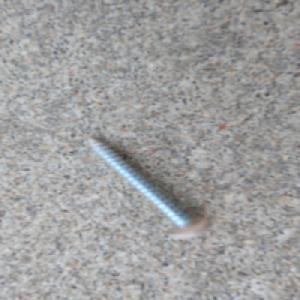Screw: (80, 132, 212, 240)
